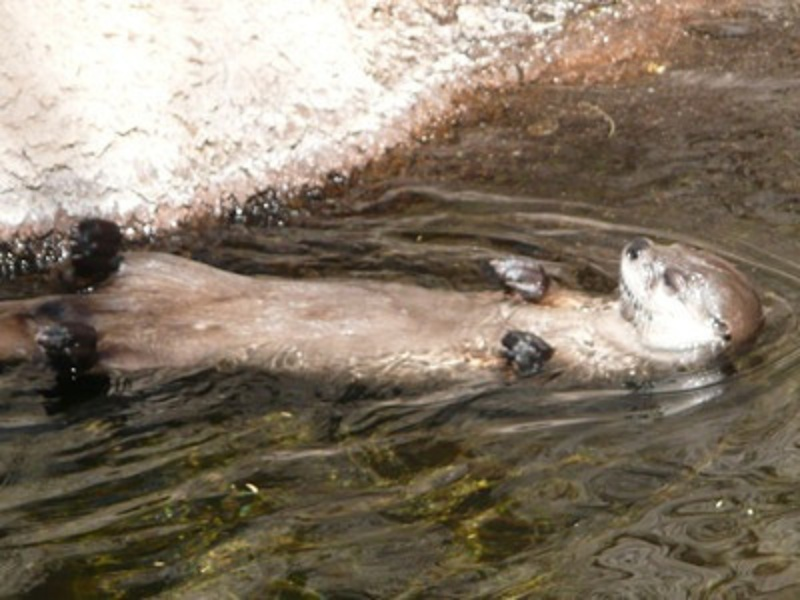minkish: (3, 229, 771, 419)
